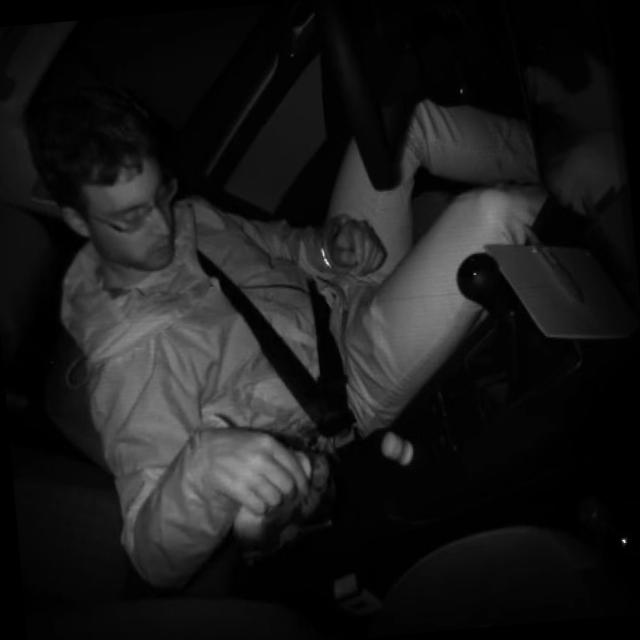pen: (520, 216, 586, 313)
